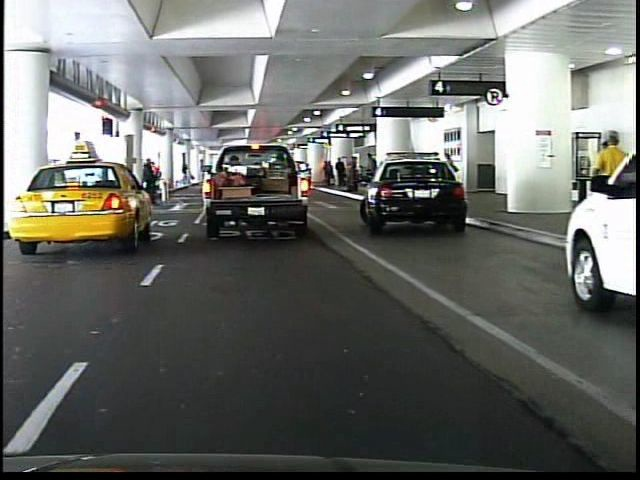person: (586, 124, 628, 251), (131, 154, 157, 215), (209, 149, 232, 202)
